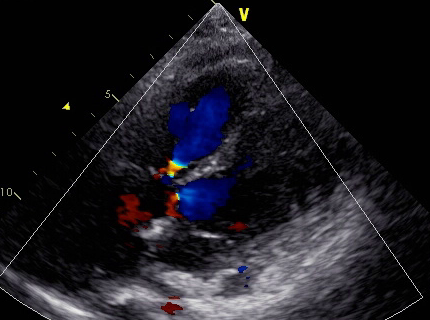TR: (140, 148, 198, 215)
